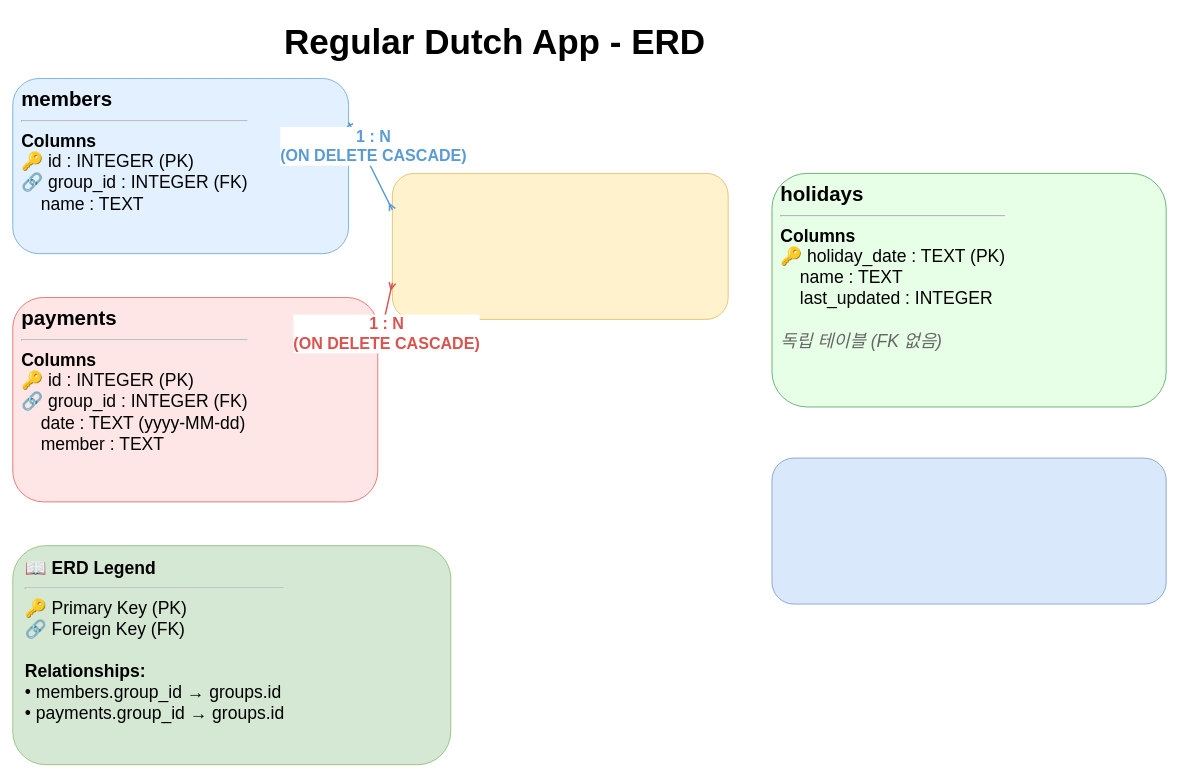
Some shapes in this 1179 by 777 pixel diagram are drawn without their labels. Here are the shapes that lost their labels. From the top down, the centre of each, then its label:
point 560,246: groups Columns 🔑 id : INTEGER (PK) name : TEXT (NOT NULL)
point 968,530: Database Info Type: SQLite (sqflite) File: group.db Version: 2 Foreign Keys: ON
